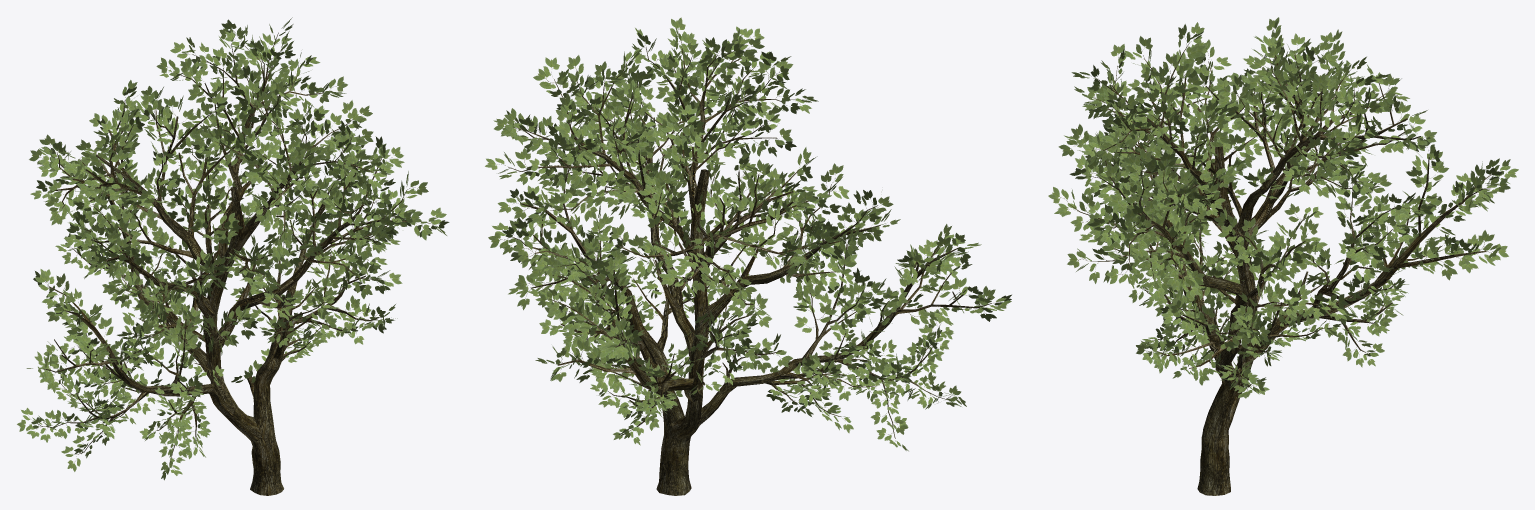
The model's file is Tree 3.FBX.
The picture shows the model from 3 angles, left to right: view 1: azimuth 30°, elevation 25°; view 2: azimuth 150°, elevation 25°; view 3: azimuth 270°, elevation 25°; orthographic projection. The views are drawn at different scales.
Parts seen in each view (by area): view 1: Tree 3; view 2: Tree 3; view 3: Tree 3.
Boxes of the visible parts, bbox=[...] form: Tree 3: bbox=[17, 17, 449, 495]; Tree 3: bbox=[485, 17, 1011, 495]; Tree 3: bbox=[1048, 17, 1518, 495].
Size of the model in its own units: 475 by 450 by 421.
Materials: 2 (2 with a texture image).
